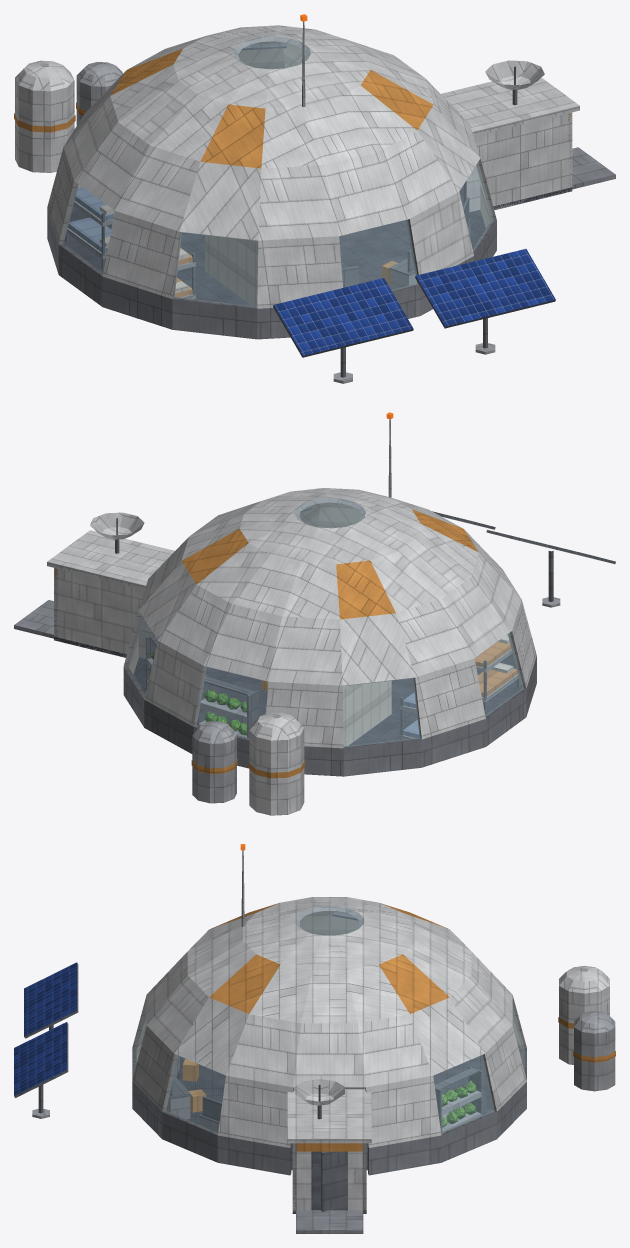
Rendered from dome-habitat.glb.
3 renders of one model, top to bottom at view 1: azimuth 30°, elevation 25°; view 2: azimuth 150°, elevation 25°; view 3: azimuth 270°, elevation 25°, orthographic. The views are drawn at different scales.
Parts seen in each view (by area): view 1: roof, body; view 2: roof, body; view 3: roof, body.
Part boxes in pixels (<box>): roof: <box>47,14,579,308</box>; body: <box>14,60,615,383</box>; roof: <box>47,412,536,748</box>; body: <box>14,511,615,815</box>; roof: <box>132,844,526,1147</box>; body: <box>14,962,615,1233</box>.
Bounding box in the file's own units: 15.88 × 7.88 × 17.95.
Materials: 7 (6 with a texture image).
